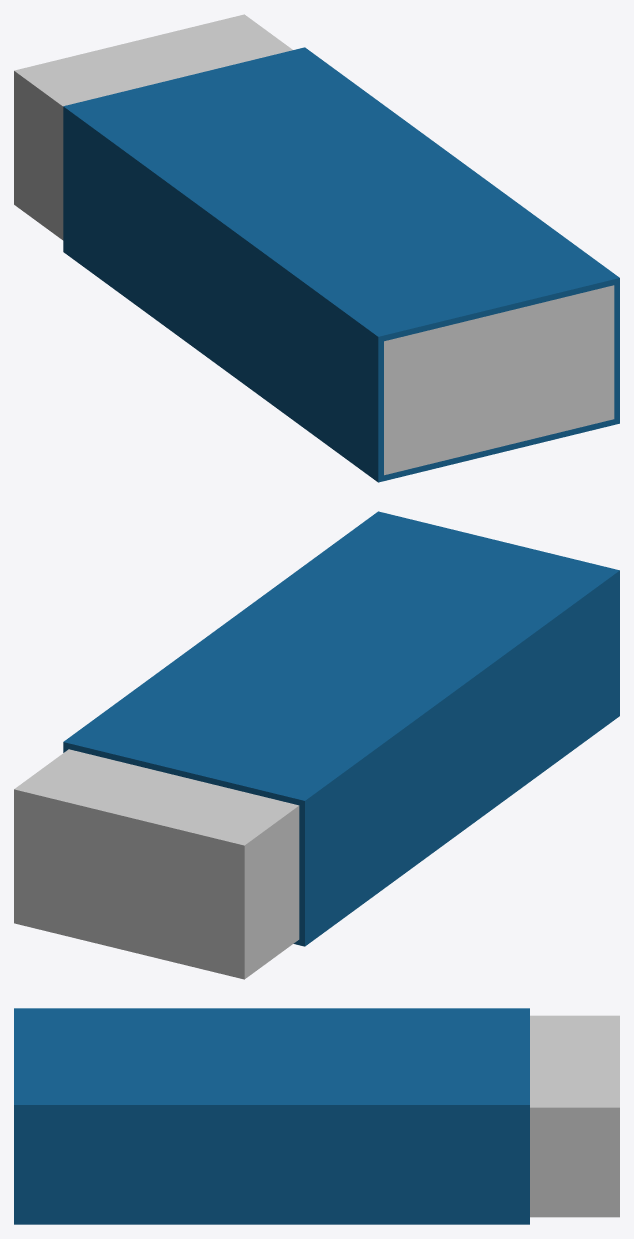
The model's file is RubberEraserV2.fbx.
3 renders of one model, top to bottom at view 1: azimuth 30°, elevation 25°; view 2: azimuth 150°, elevation 25°; view 3: azimuth 270°, elevation 25°, orthographic. The views are drawn at different scales.
Visible parts, largest first — view 1: RubberEraserV2; view 2: RubberEraserV2; view 3: RubberEraserV2.
Boxes of the visible parts, bbox=[...] form: RubberEraserV2: bbox=[14, 14, 619, 482]; RubberEraserV2: bbox=[14, 511, 619, 979]; RubberEraserV2: bbox=[14, 1008, 619, 1224].
Bounding box in the file's own units: 0.6817 × 0.3927 × 1.81.
